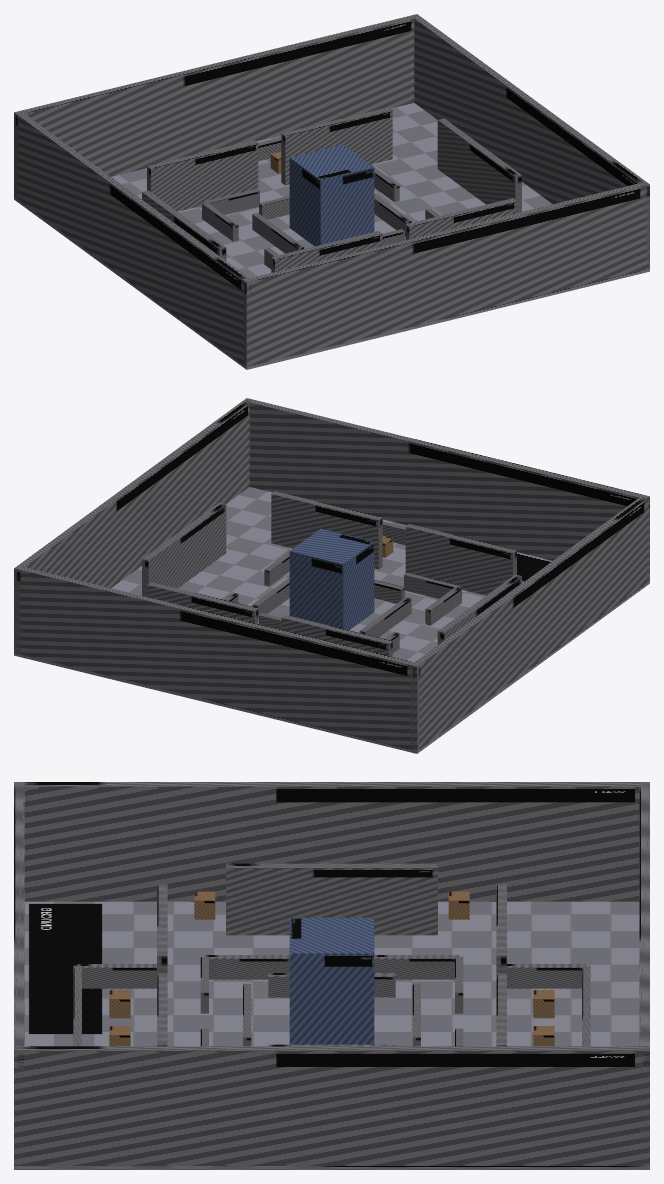
File: lobby.gltf
3 views of the same model, one above another, from view 1: azimuth 30°, elevation 25°; view 2: azimuth 150°, elevation 25°; view 3: azimuth 270°, elevation 25° (orthographic). The views are drawn at different scales.
Visible parts, largest first — view 1: Wall_N, Wall_S, Wall_W, Wall_E, Ground, Monument_Center, MidHigh_S_L, SideHigh_R, MidHigh_S_R, MidHigh_N_R, MidHigh_N_L, SideHigh_L (+6 smaller); view 2: Wall_S, Wall_N, Wall_W, Wall_E, Ground, Monument_Center, MidHigh_N_L, SideHigh_R, MidHigh_N_R, MidHigh_S_R, MidHigh_S_L, SideHigh_L (+6 smaller); view 3: Wall_E, Wall_W, Ground, SideHigh_L, Monument_Center, Wall_S, Wall_N, SpawnS_L, L_SW_Z, SpawnN_L, L_NW_Z, MidLow_W (+12 smaller).
Boxes of the visible parts, box(x1,y1,x2,y2) form: Wall_N: box(243, 183, 649, 366); Wall_S: box(14, 14, 419, 199); Wall_W: box(14, 112, 253, 366); Wall_E: box(411, 14, 649, 269); Ground: box(14, 103, 649, 369); Monument_Center: box(289, 144, 374, 246); MidHigh_S_L: box(147, 140, 258, 211); SideHigh_R: box(437, 118, 521, 212); MidHigh_S_R: box(281, 107, 392, 185); MidHigh_N_R: box(405, 198, 516, 239); MidHigh_N_L: box(271, 231, 382, 272); SideHigh_L: box(142, 190, 226, 260); Wall_S: box(14, 565, 420, 750); Wall_N: box(246, 398, 649, 581); Wall_W: box(410, 495, 649, 750); Wall_E: box(14, 398, 252, 654); Ground: box(14, 487, 649, 753); Monument_Center: box(289, 528, 374, 630); MidHigh_N_L: box(405, 524, 516, 595); SideHigh_R: box(142, 502, 226, 596); MidHigh_N_R: box(271, 491, 382, 569); MidHigh_S_R: box(147, 582, 258, 623); MidHigh_S_L: box(281, 615, 392, 656); SideHigh_L: box(437, 574, 521, 644); Wall_E: box(14, 1046, 649, 1165); Wall_W: box(17, 782, 649, 901); Ground: box(14, 901, 649, 1169); SideHigh_L: box(226, 863, 437, 935); Monument_Center: box(289, 917, 374, 1044); Wall_S: box(639, 782, 649, 1165); Wall_N: box(14, 782, 24, 1165); SpawnS_L: box(507, 964, 586, 988); L_SW_Z: box(374, 955, 459, 979); SpawnN_L: box(77, 964, 156, 988); L_NW_Z: box(204, 955, 289, 979); MidLow_W: box(268, 973, 395, 997).
Size of the model in its own units: 30 by 6.2 by 30.
